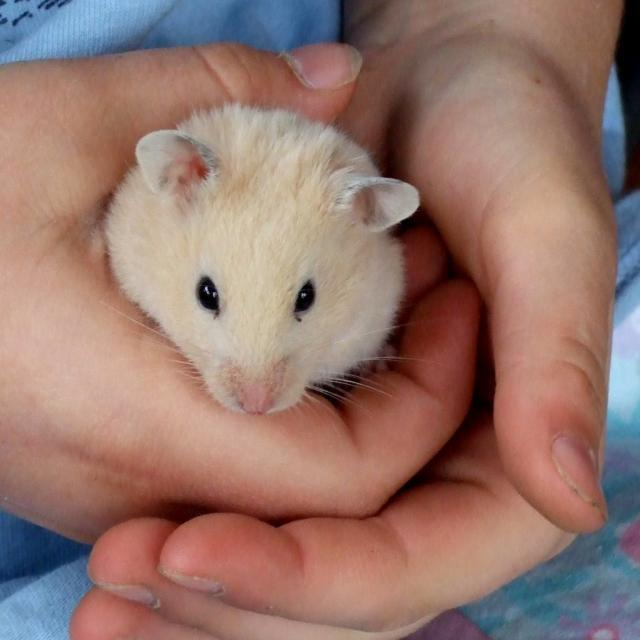rat: (107, 101, 423, 418)
